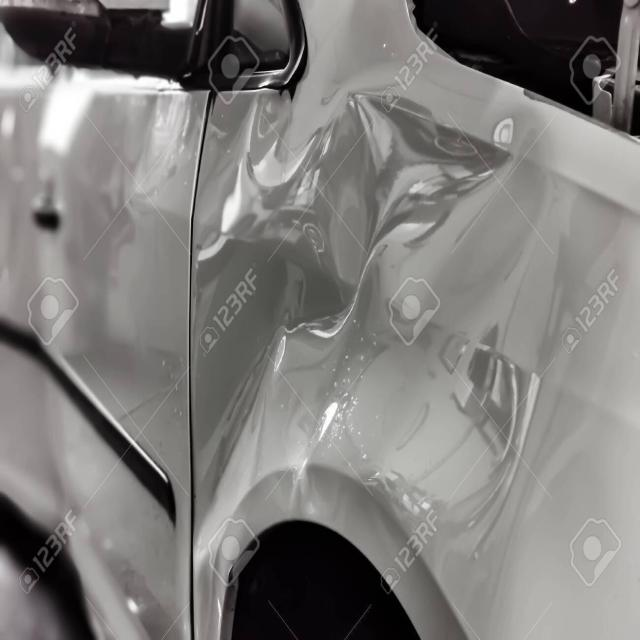dent: (189, 86, 575, 603)
